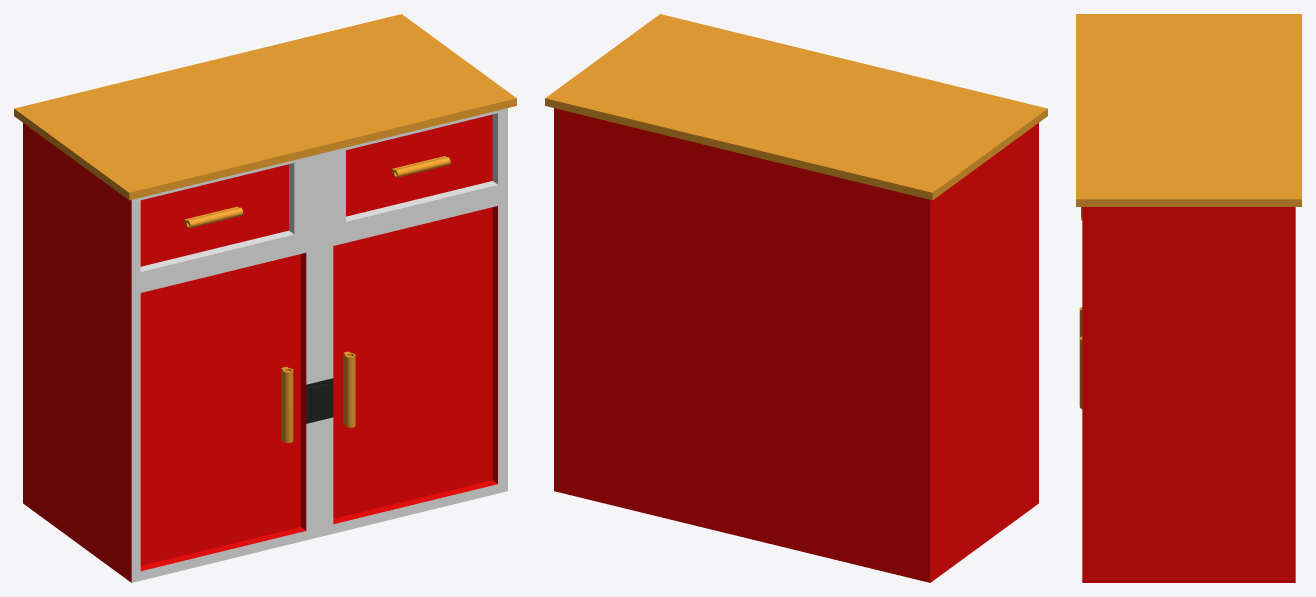
The model's file is Mueble.fbx.
3 renders of one model, left to right at view 1: azimuth 30°, elevation 25°; view 2: azimuth 150°, elevation 25°; view 3: azimuth 270°, elevation 25°, orthographic.
Visible parts, largest first — view 1: Mueble; view 2: Mueble; view 3: Mueble.
Boxes of the visible parts, left/top/right/bottom form: Mueble: left=14, top=14, right=516, bottom=582; Mueble: left=545, top=14, right=1047, bottom=582; Mueble: left=1076, top=14, right=1301, bottom=582.
Bounding box in the file's own units: 2.06 × 2 × 1.06.
